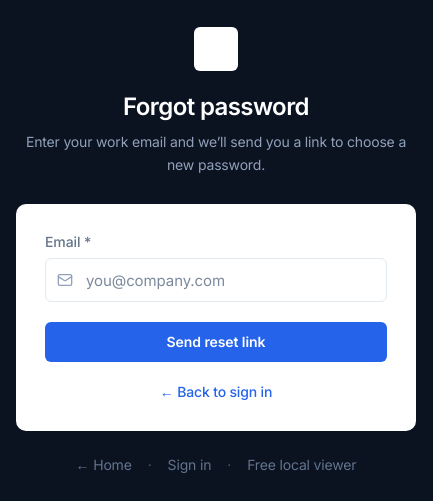
Test: ForgotPasswordPage › shows inline validation before sending a malformed email address
The width and height of the screenshot is (433, 501).
Step 1. Type "not-an-email" into the field labelled "Email *" → (216, 280), box [45,258,387,302]
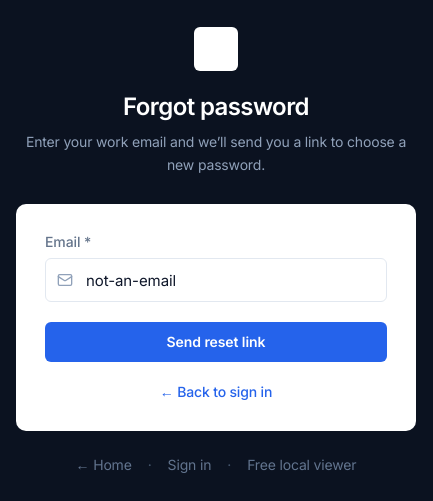
Step 2. Click the button "Send reset link" → (216, 342), box [45,322,387,362]
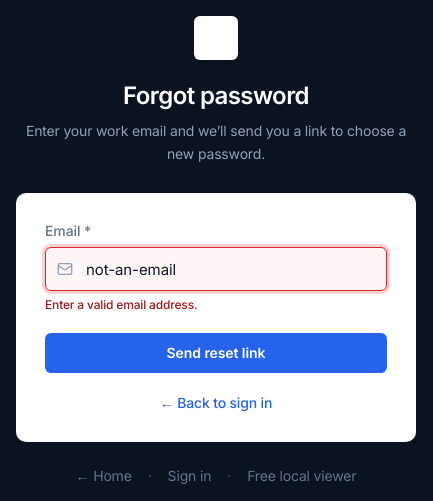
Expected: the message reads "Enter a valid email address.", [45,297,198,312]
